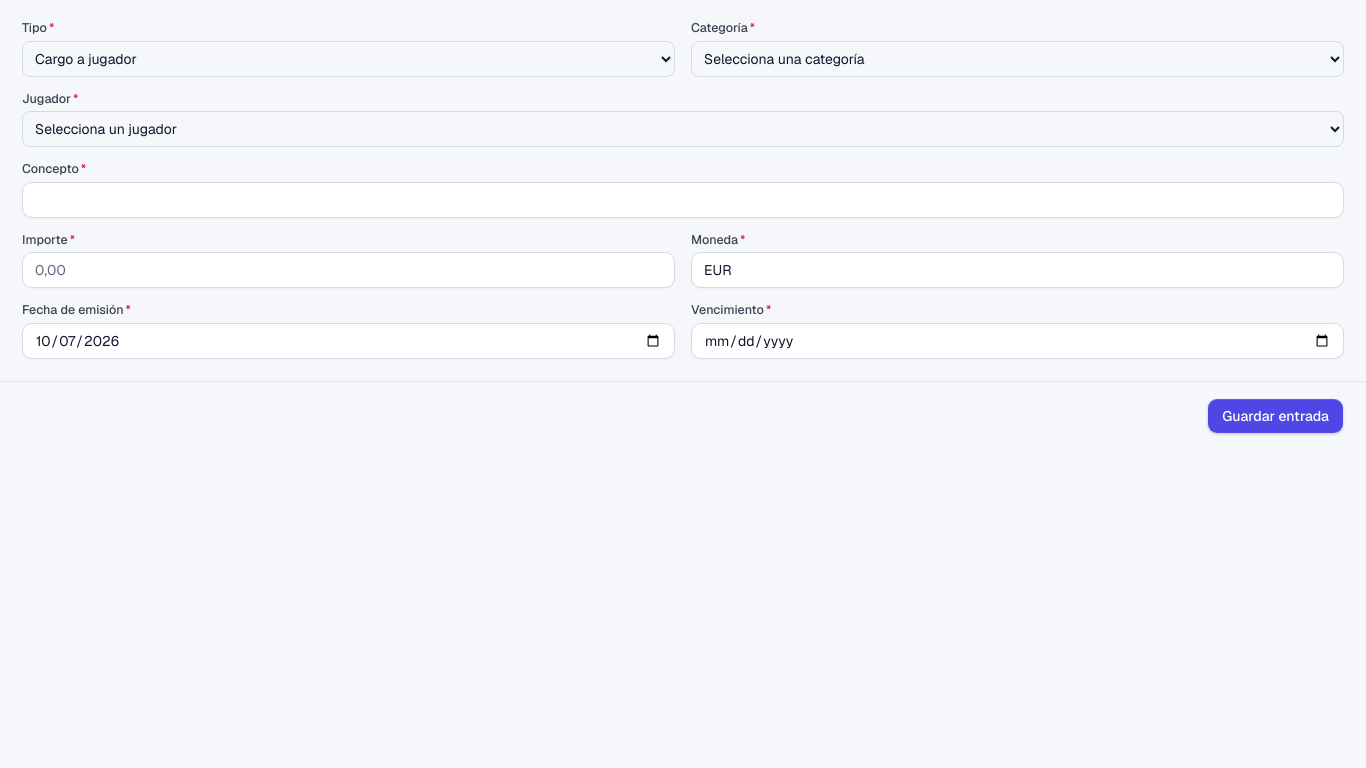
Test: EntradaEconomicaForm › exige jugador, categoría de ingreso activa, concepto, importe, moneda y vencimiento para un cargo
This screenshot has width=1366, height=768.
Clear the field labelled "Moneda*" at {"x": 1018, "y": 270}, box [691, 252, 1344, 288]
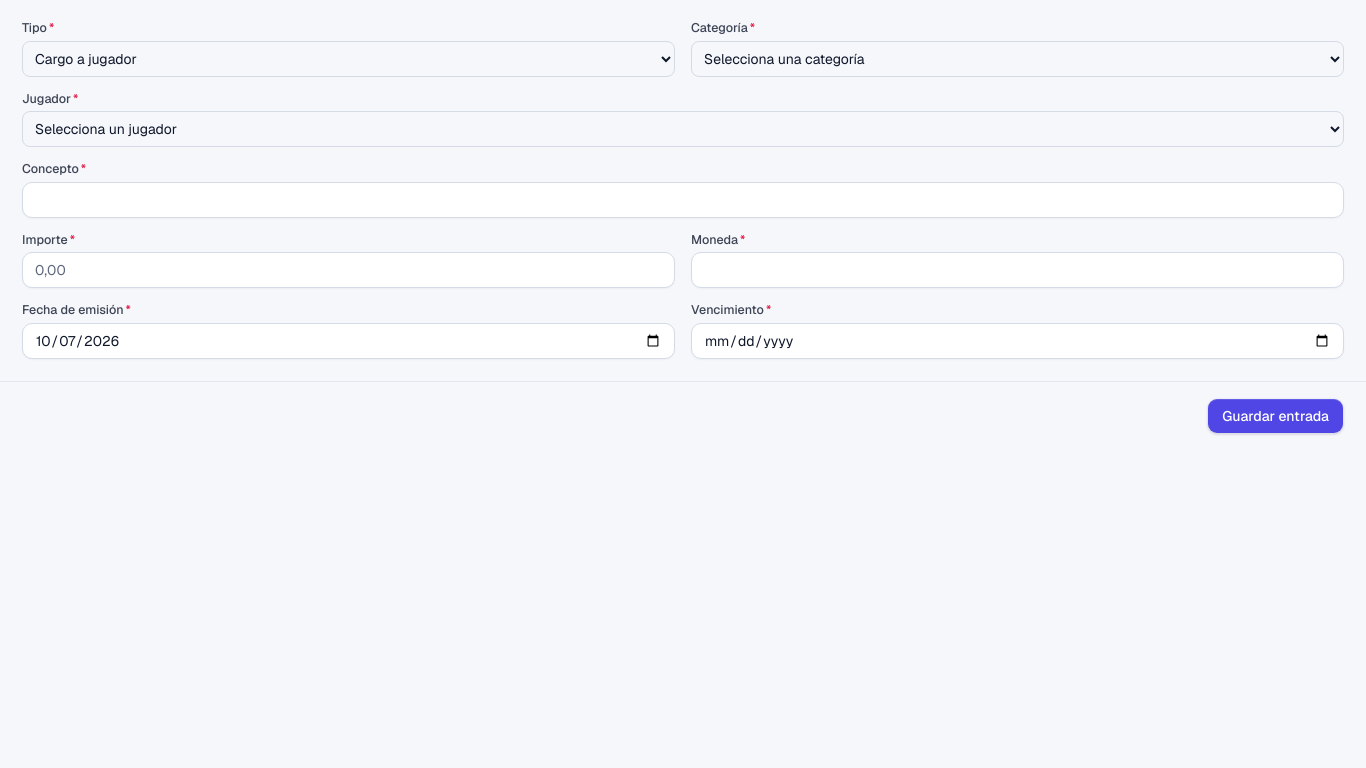
Click the button "Guardar entrada" at {"x": 1276, "y": 416}, box [1207, 398, 1344, 434]
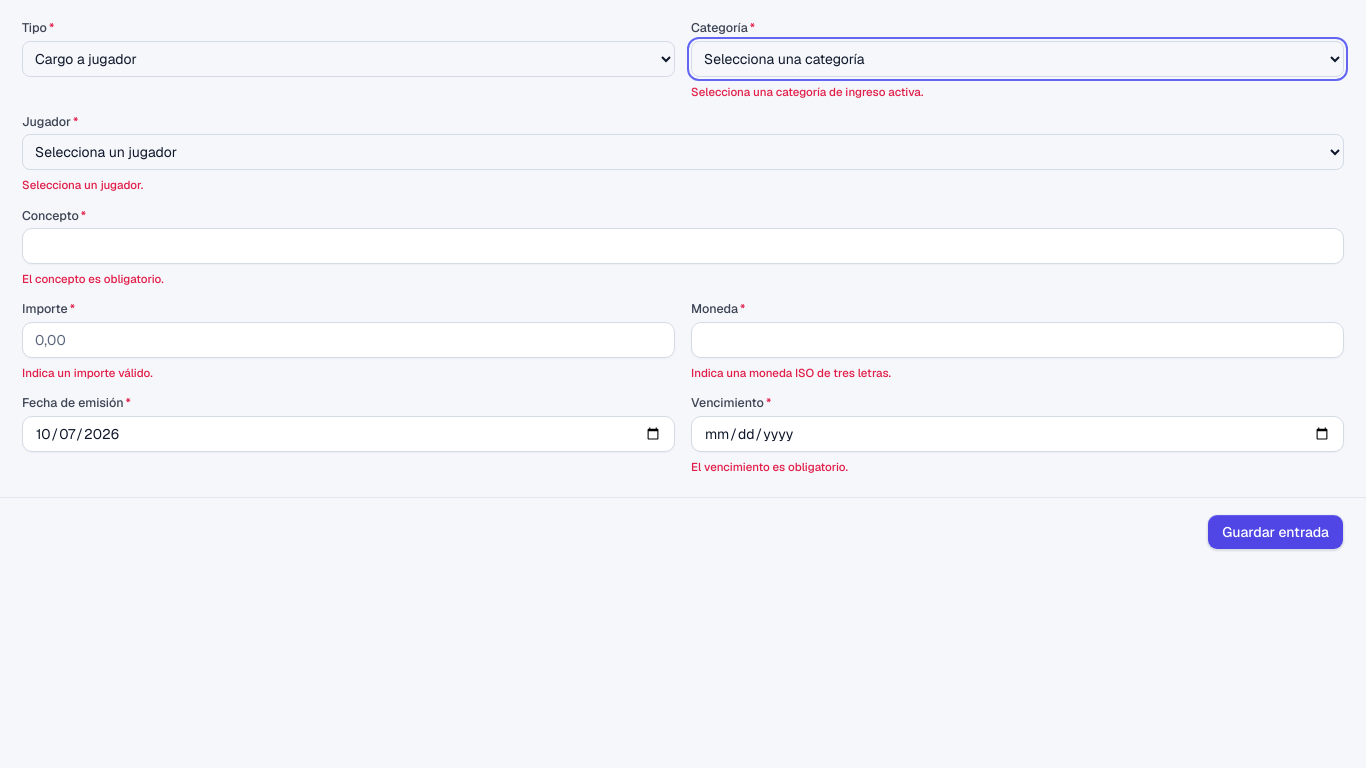
Expected: the text "Selecciona un jugador." is shown, [22, 177, 143, 192]
Expected: the text "Selecciona una categoría de ingreso activa." is shown, [691, 84, 924, 98]
Expected: the text "El concepto es obligatorio." is shown, [22, 271, 164, 286]
